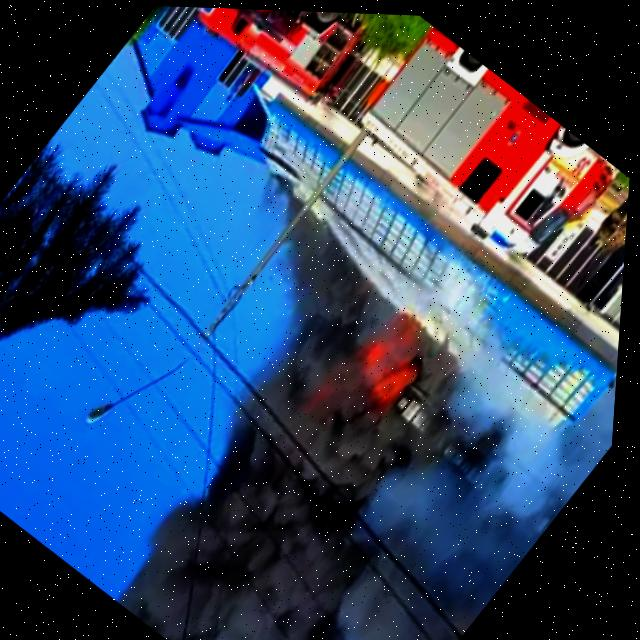Smoke: (5, 161, 632, 640)
